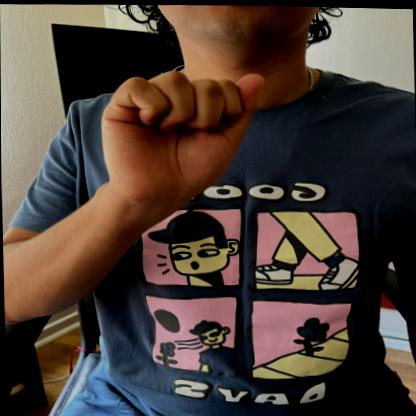A: (89, 62, 269, 201)
